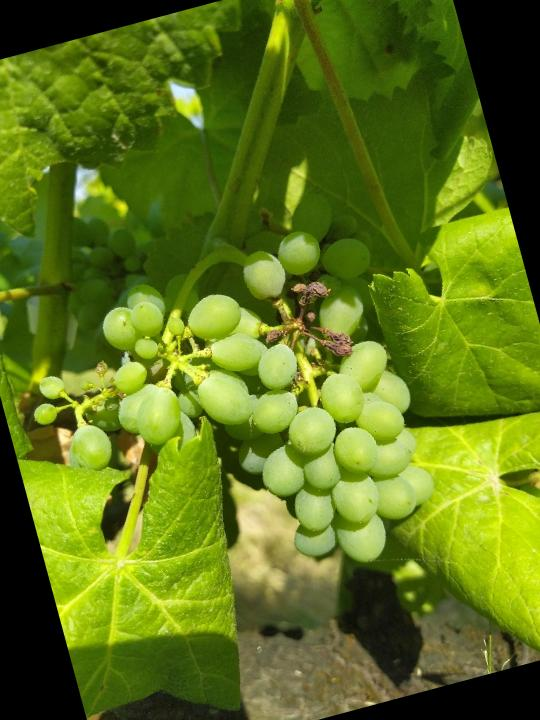grape: (0, 182, 458, 641)
